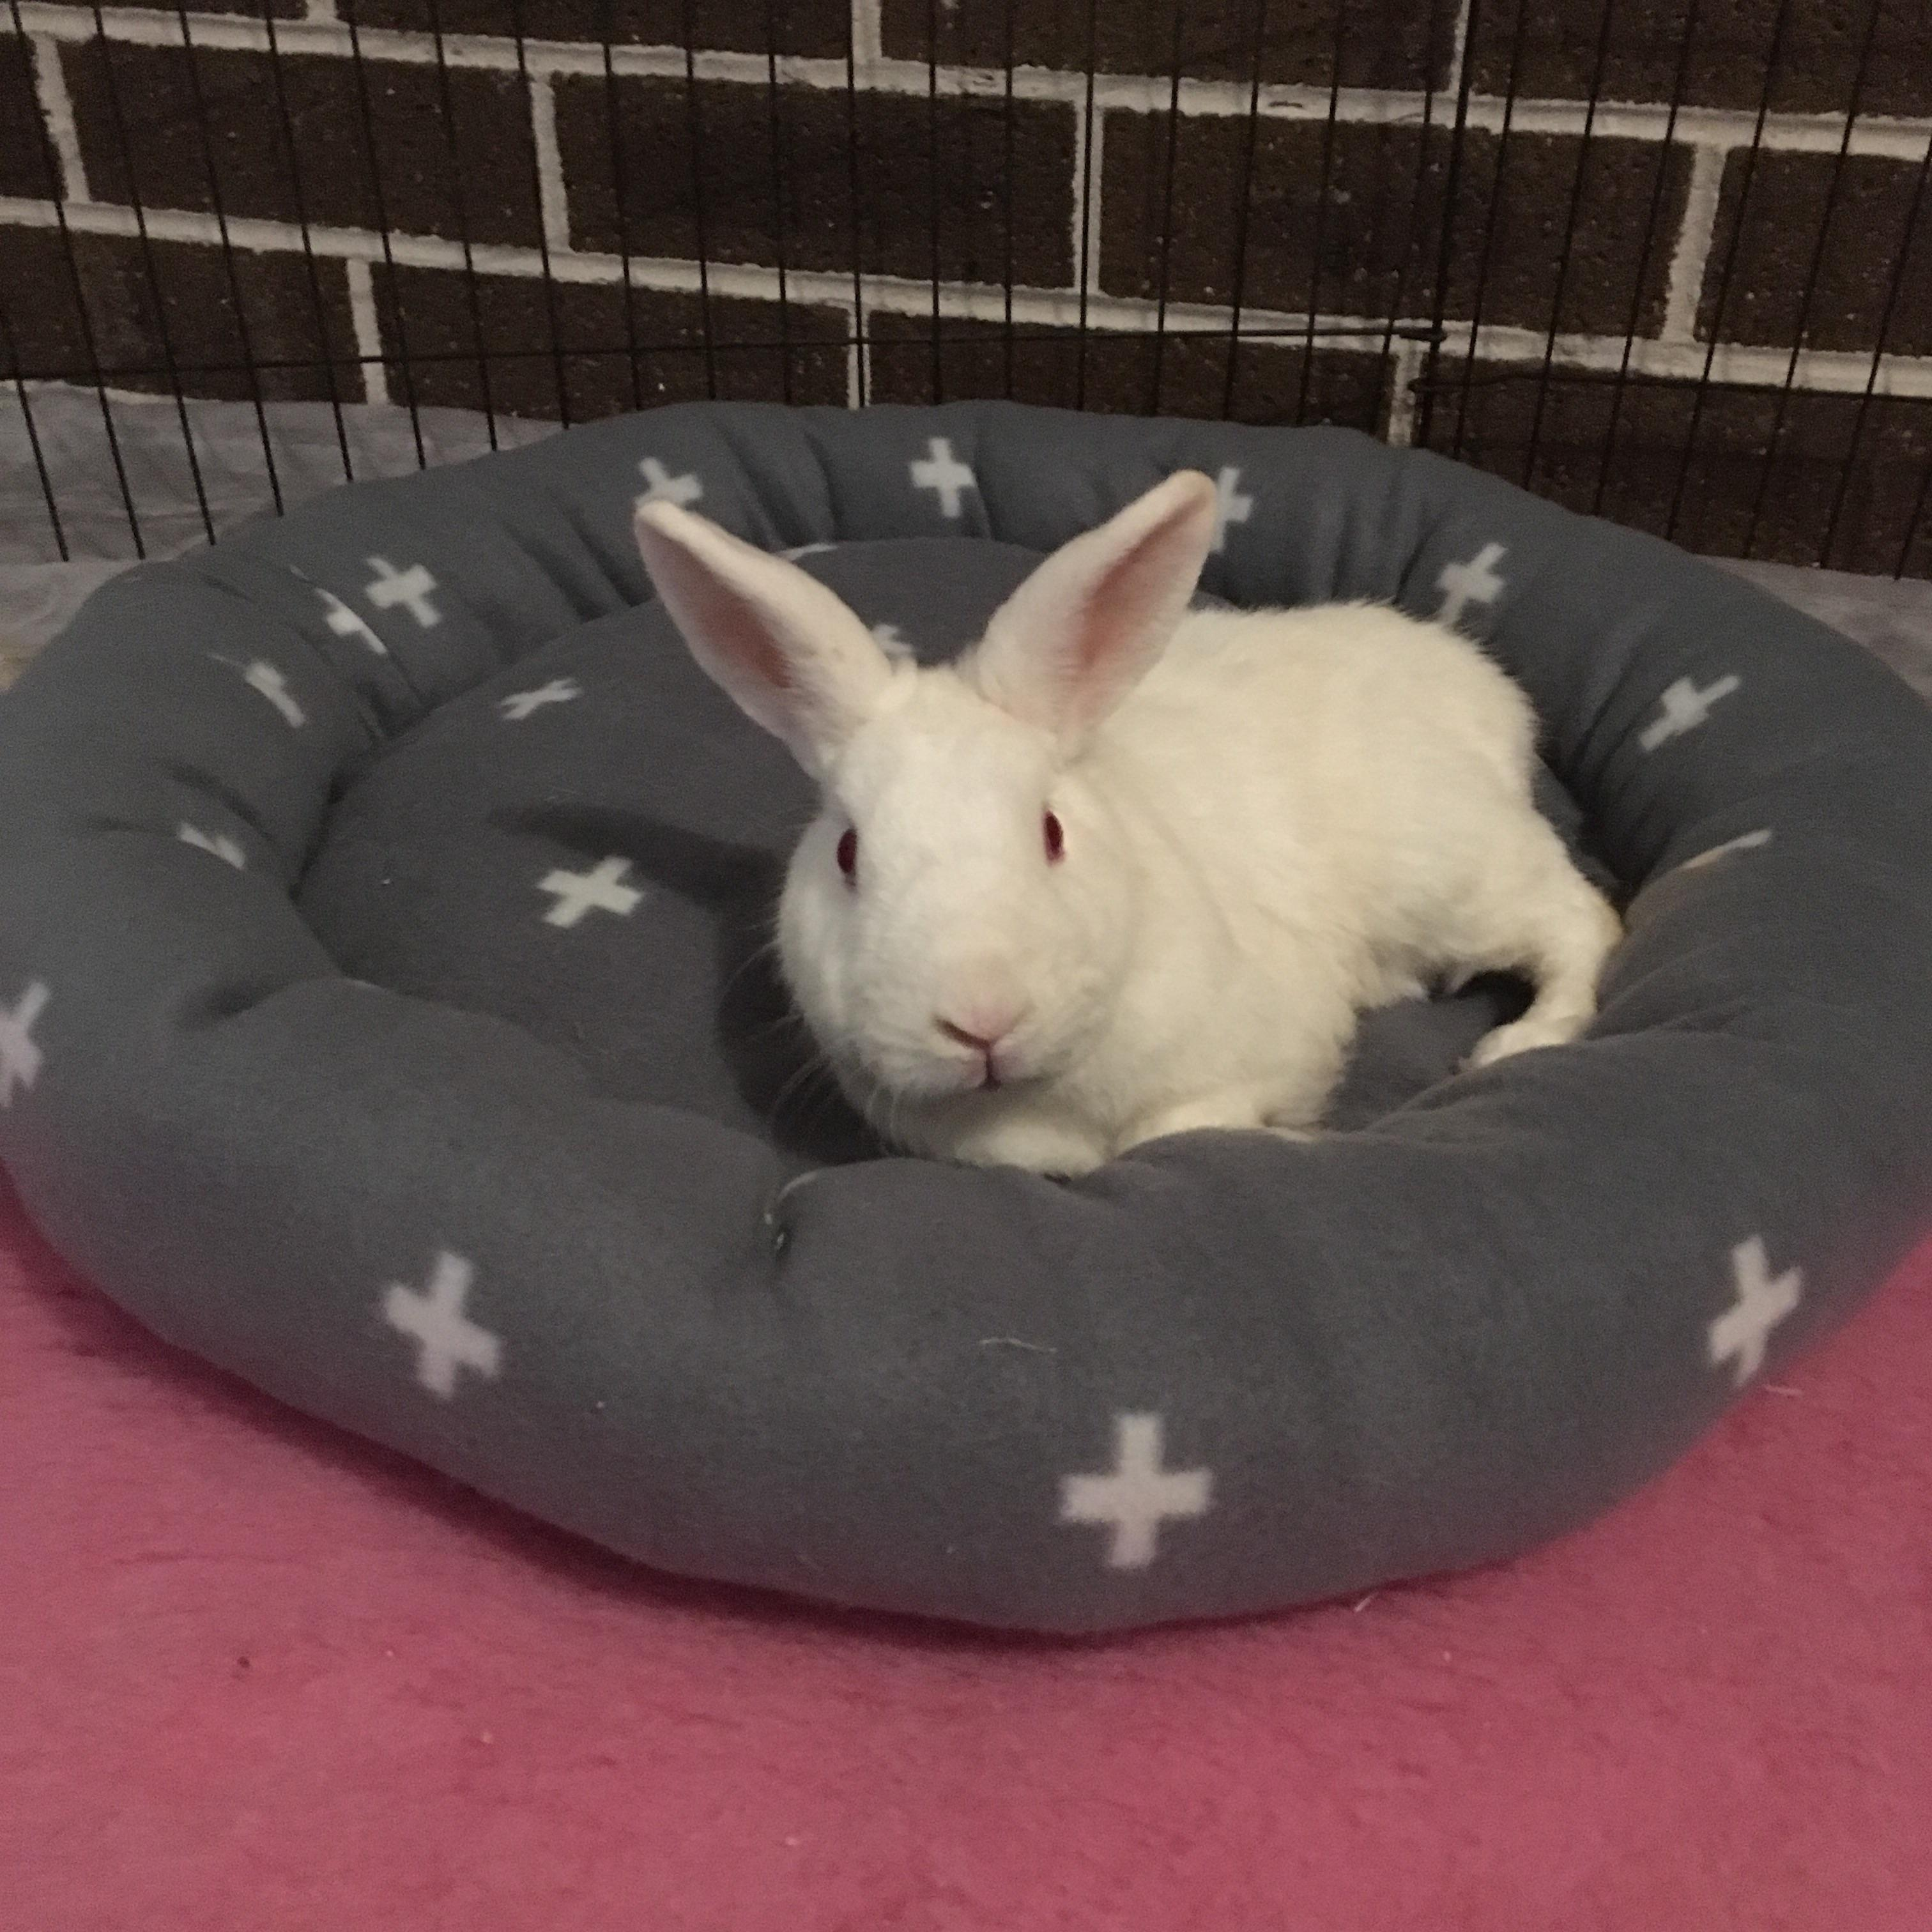bunny: (559, 359, 1683, 1244)
